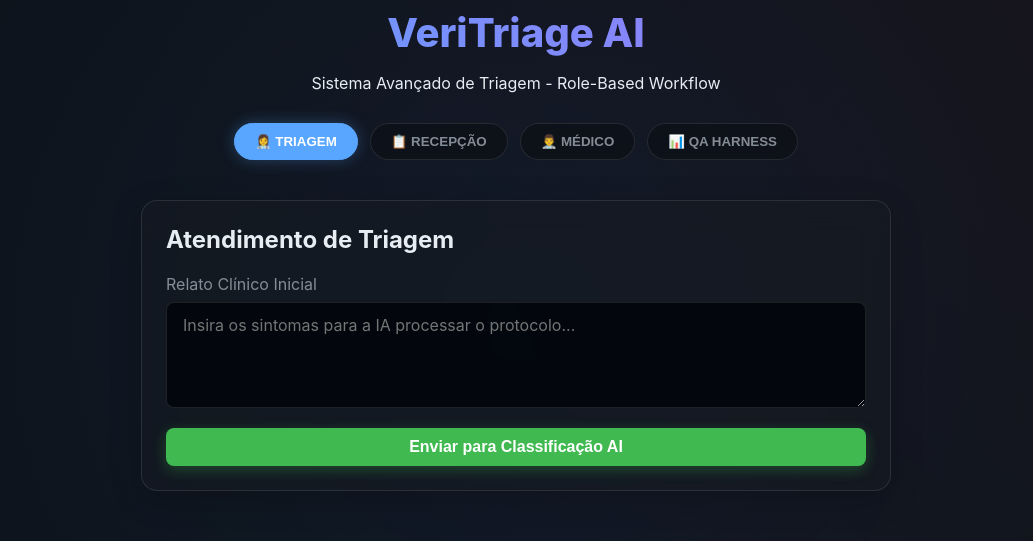
it: VeriTriage RBAC App › navigates to QA HARNESS tab successfully
Click the button "📊 QA HARNESS". click: [723, 142]
box: [647, 123, 798, 160]
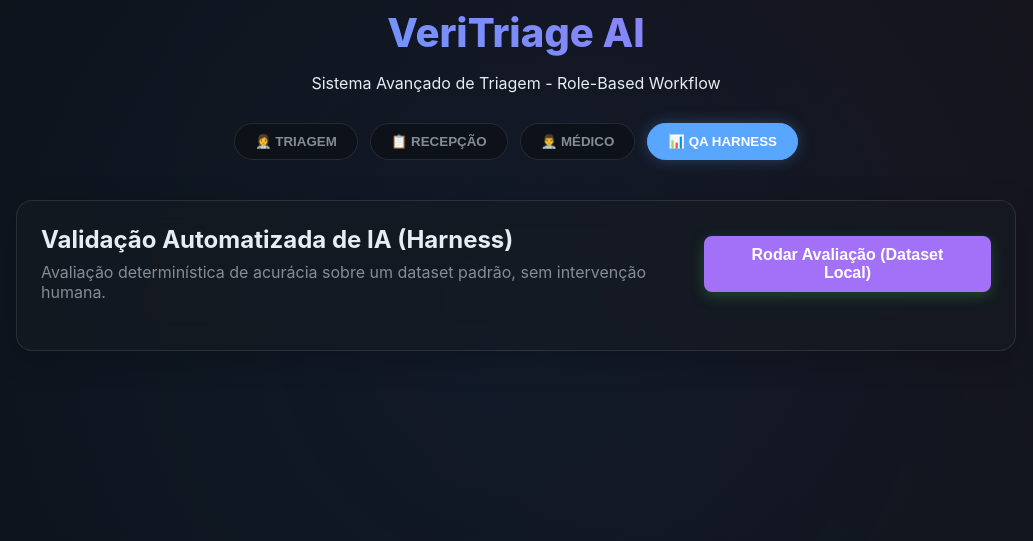
Result: the heading "Validação Automatizada de IA (Harness)" is shown at [41, 225, 513, 254]
Result: the button "Rodar Avaliação (Dataset Local)" is shown at [704, 236, 991, 292]
